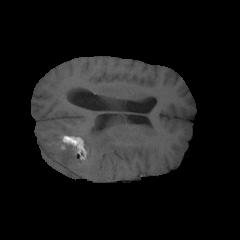glioma: (42, 124, 155, 177)
